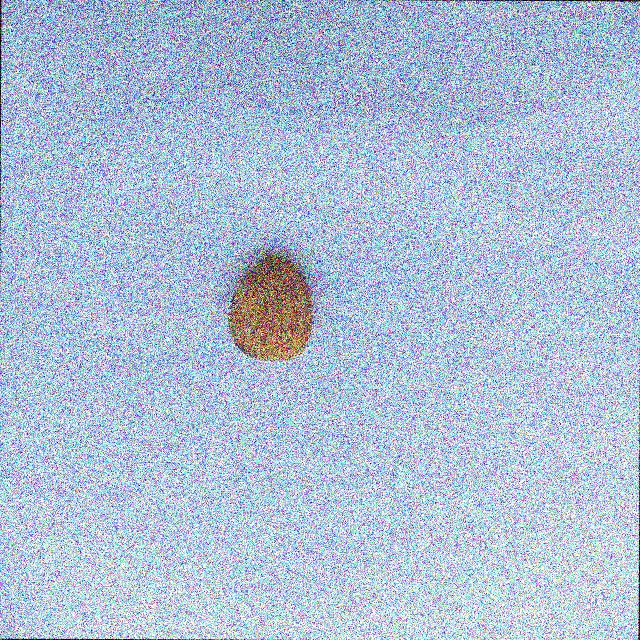grade1: (222, 246, 324, 368)
